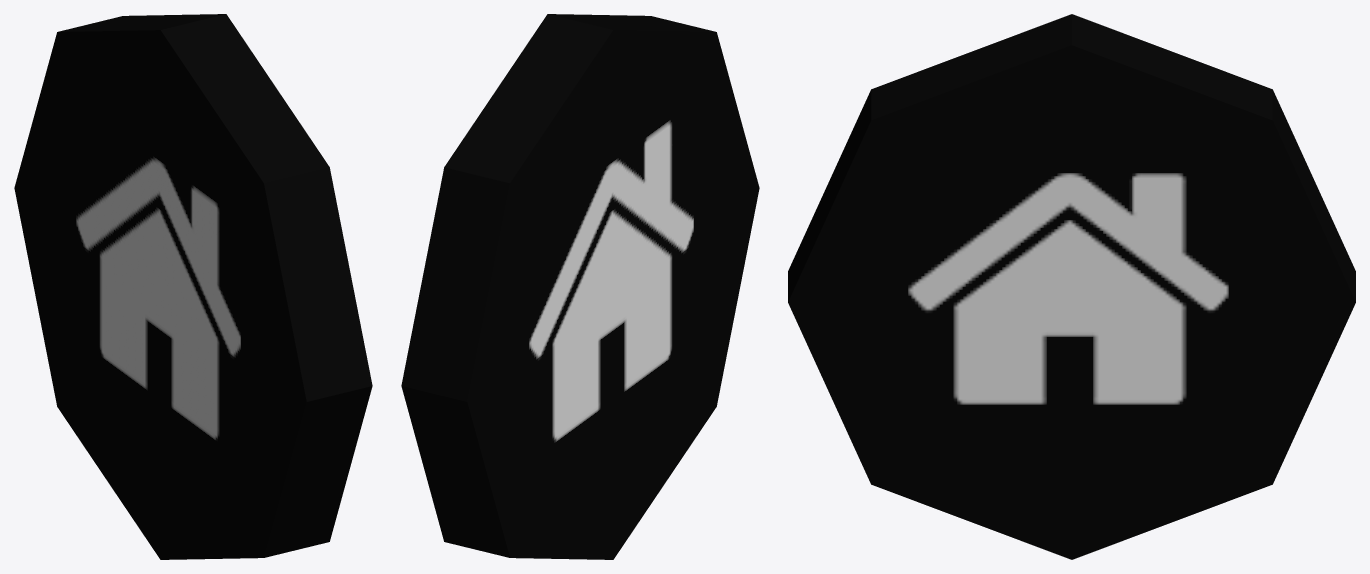
File: homepage.glb
The picture shows the model from 3 angles, left to right: view 1: azimuth 30°, elevation 25°; view 2: azimuth 150°, elevation 25°; view 3: azimuth 270°, elevation 25°; orthographic projection. The views are drawn at different scales.
Visible parts, largest first — view 1: Home; view 2: Home; view 3: Home.
Boxes of the visible parts, x1,y1,x2,y2 form: Home: (14,14,372,559); Home: (401,14,759,559); Home: (788,14,1355,559).
Size of what is drawn, in the model's own units: 0.0951 by 0.7312 by 0.7312.
1 material, 1 textured.
